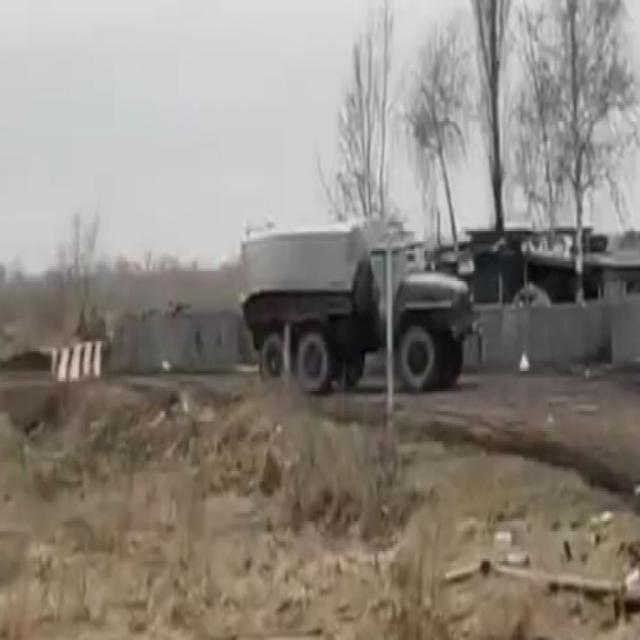TRUCK: (230, 211, 478, 398)
